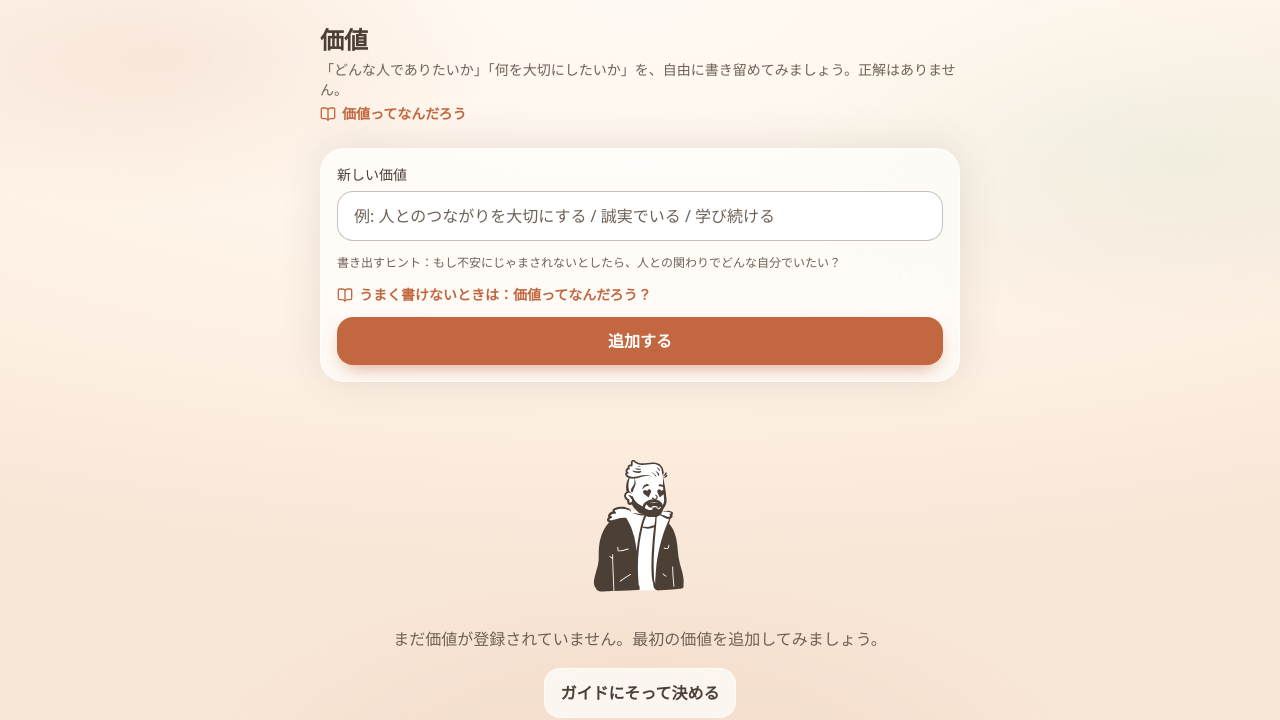
it: ValuesPage › 続けて2件追加できる（追加後に入力が初期化されても次を受け付ける）
Type "ひとつめ" into the field labelled "新しい価値" at (640, 216), box [337,191,943,241]
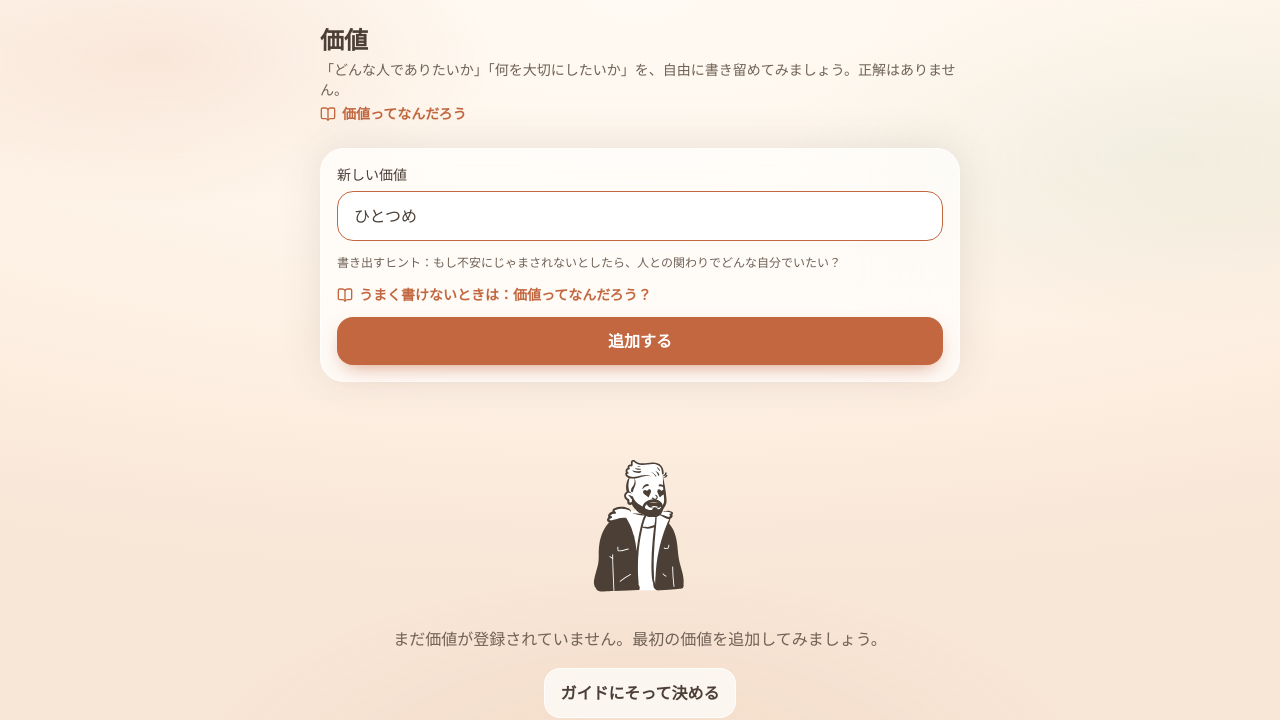
Click the button "追加する" at (640, 340), box [337,316,943,364]
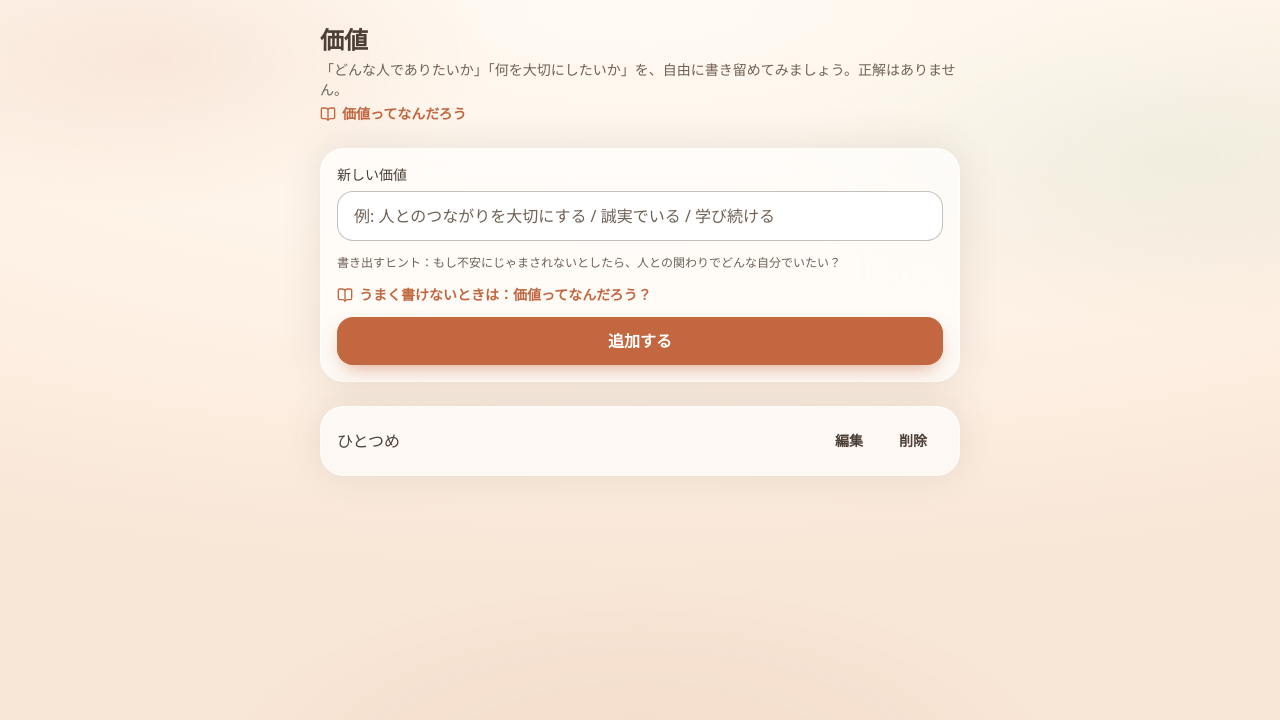
expect the text "ひとつめ" is shown: met, box [337,428,400,452]
Type "ふたつめ" into the field labelled "新しい価値" at (640, 216), box [337,191,943,241]
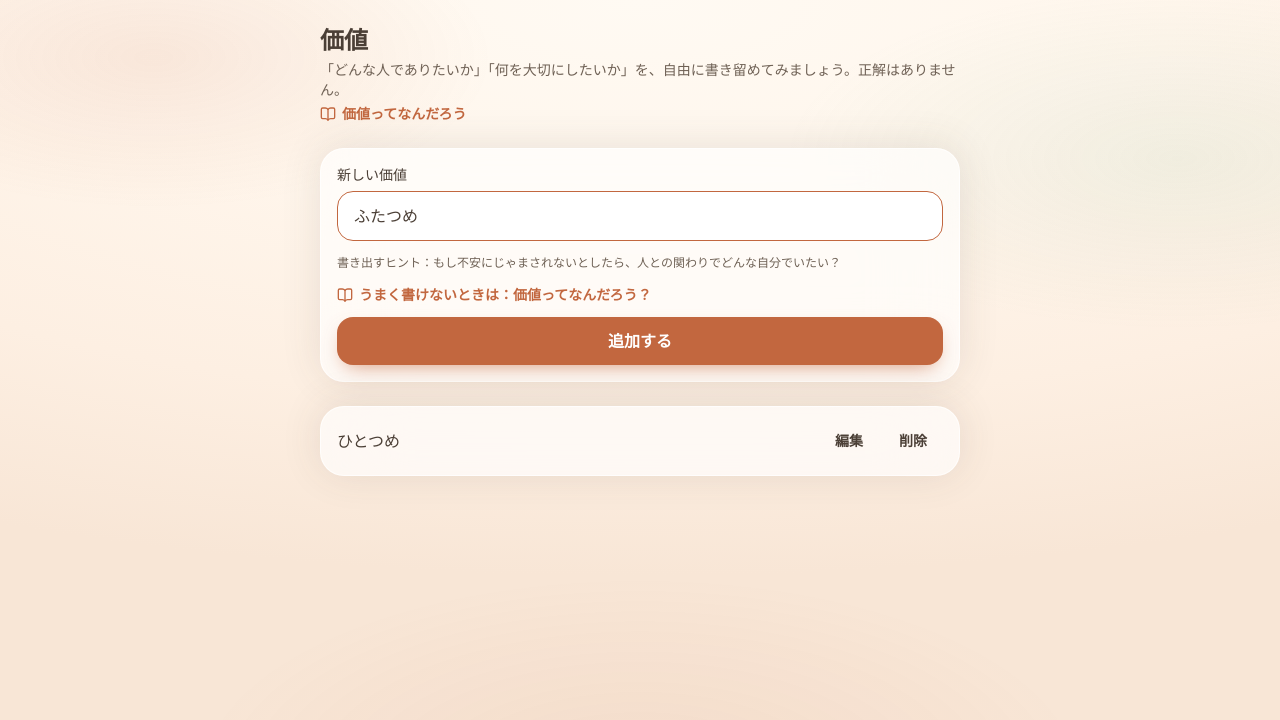
Click the button "追加する" at (640, 340), box [337,316,943,364]
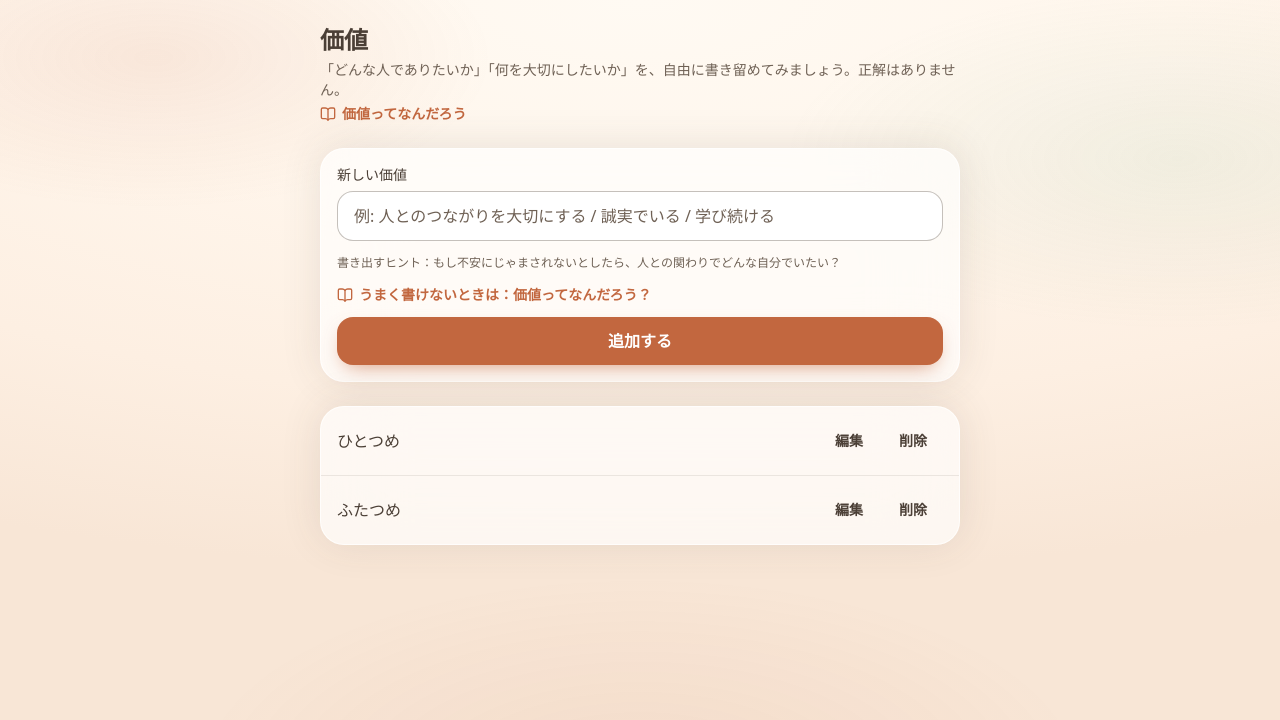
expect the text "ふたつめ" is shown: met, box [337,498,401,522]
